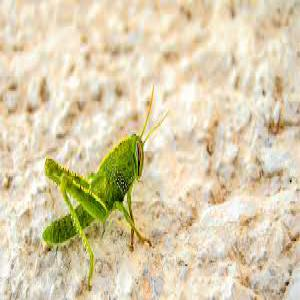locust: (40, 107, 173, 264)
